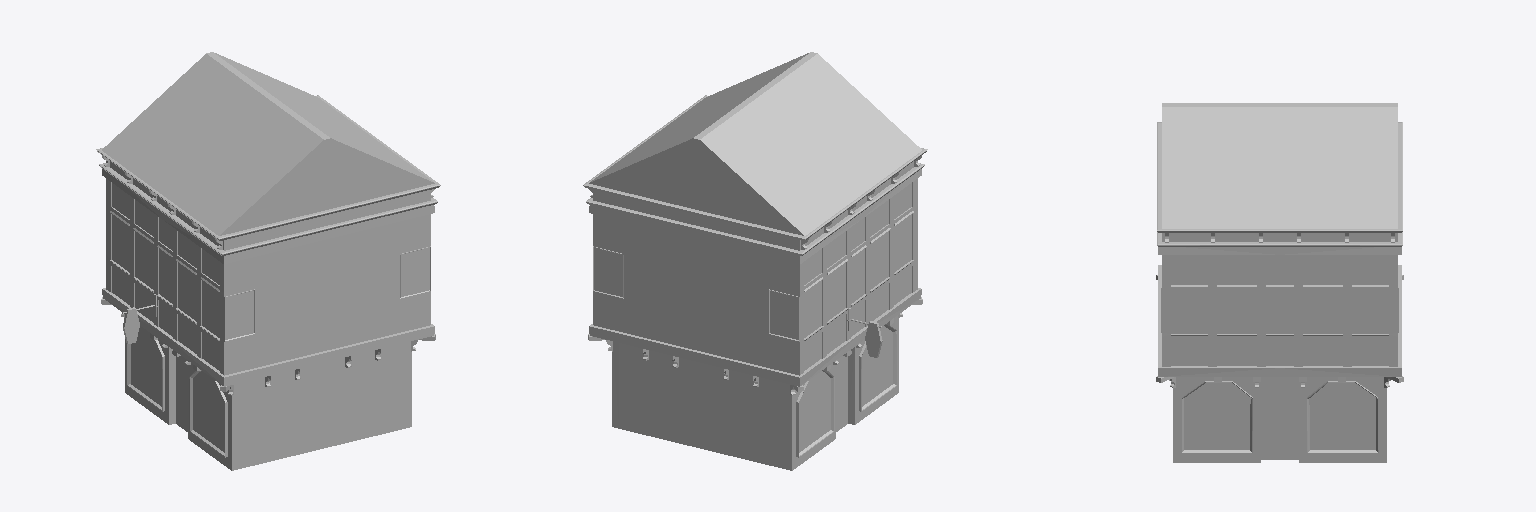
The model's file is house22.obj.
3 renders of one model, left to right at view 1: azimuth 30°, elevation 25°; view 2: azimuth 150°, elevation 25°; view 3: azimuth 270°, elevation 25°, orthographic.
Parts seen in each view (by area): view 1: City_building_028.001; view 2: City_building_028.001; view 3: City_building_028.001.
Boxes of the visible parts, box(x1,y1,x2,y2) form: City_building_028.001: box(96, 52, 440, 470); City_building_028.001: box(583, 52, 927, 470); City_building_028.001: box(1156, 103, 1403, 462).
Bounding box in the file's own units: 1.62 × 1.97 × 1.41.